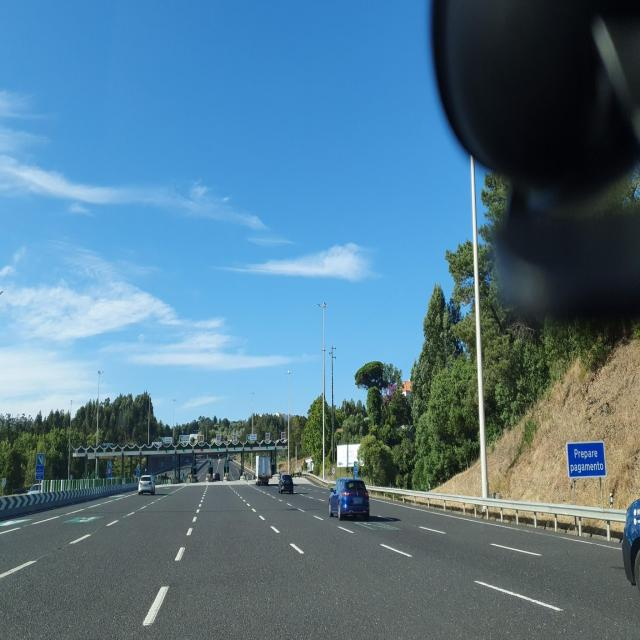car: (328, 475, 370, 520), (621, 491, 640, 588), (138, 473, 156, 496), (278, 472, 294, 494)
